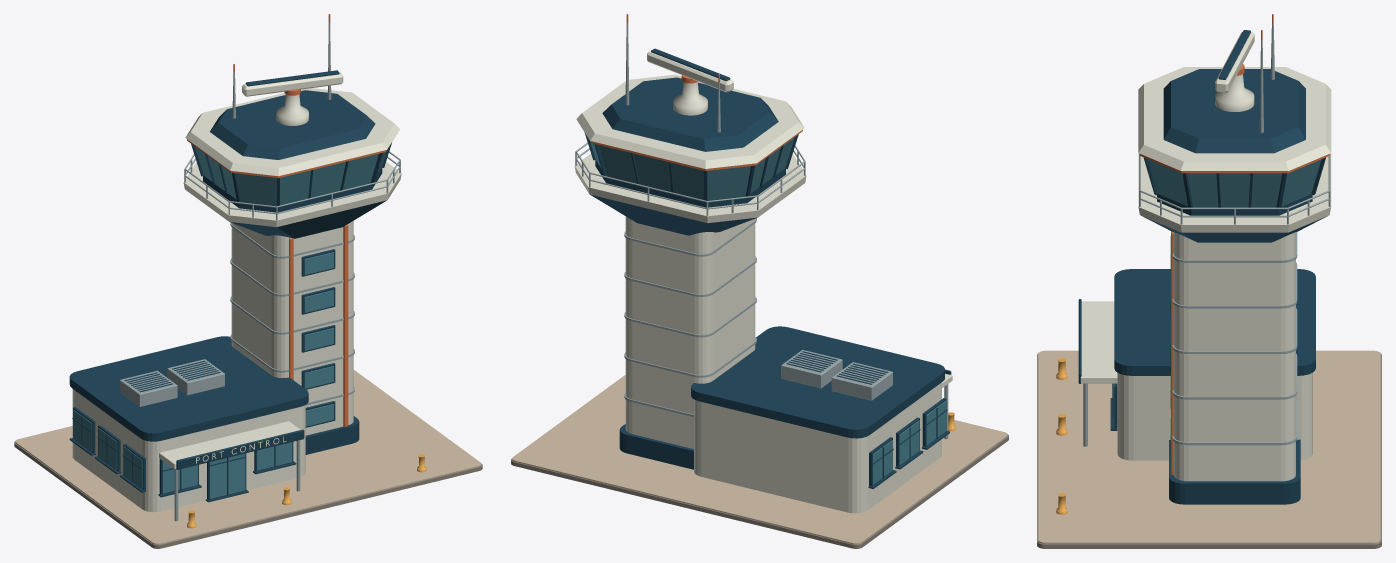
3 views of the same model, side by side, from view 1: azimuth 30°, elevation 25°; view 2: azimuth 150°, elevation 25°; view 3: azimuth 270°, elevation 25° (orthographic). The views are drawn at different scales.
Parts seen in each view (by area): view 1: Operations Wing, Bridge Gallery, Apron, Signal Core, Radar Equipment; view 2: Operations Wing, Bridge Gallery, Signal Core, Apron, Radar Equipment; view 3: Apron, Signal Core, Bridge Gallery, Operations Wing, Radar Equipment.
Boxes of the visible parts, x1,y1,x2,y2 form: Operations Wing: [69, 336, 308, 521]; Bridge Gallery: [183, 88, 401, 238]; Apron: [14, 370, 482, 548]; Signal Core: [230, 221, 359, 454]; Radar Equipment: [232, 14, 343, 125]; Operations Wing: [691, 326, 952, 513]; Bridge Gallery: [574, 74, 806, 235]; Signal Core: [619, 216, 756, 469]; Apron: [511, 375, 1008, 548]; Radar Equipment: [625, 14, 733, 132]; Apron: [1037, 350, 1381, 548]; Signal Core: [1169, 231, 1300, 504]; Bridge Gallery: [1138, 67, 1331, 242]; Operations Wing: [1078, 269, 1315, 460]; Radar Equipment: [1215, 14, 1274, 132].
Bounding box in the file's own units: 22 × 25.62 × 16.6.
